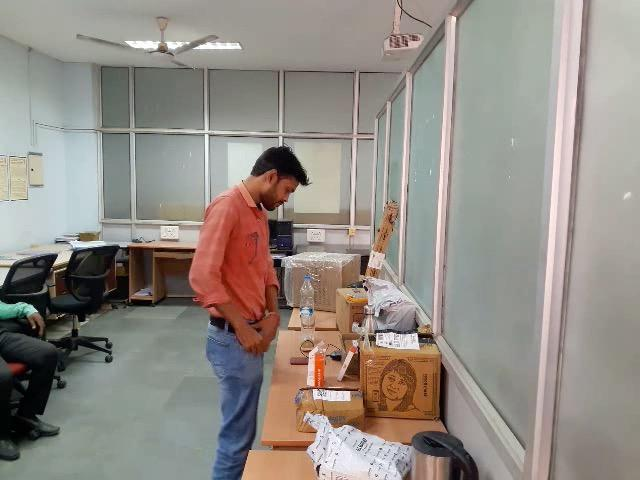shoplifting: (170, 277, 326, 376)
